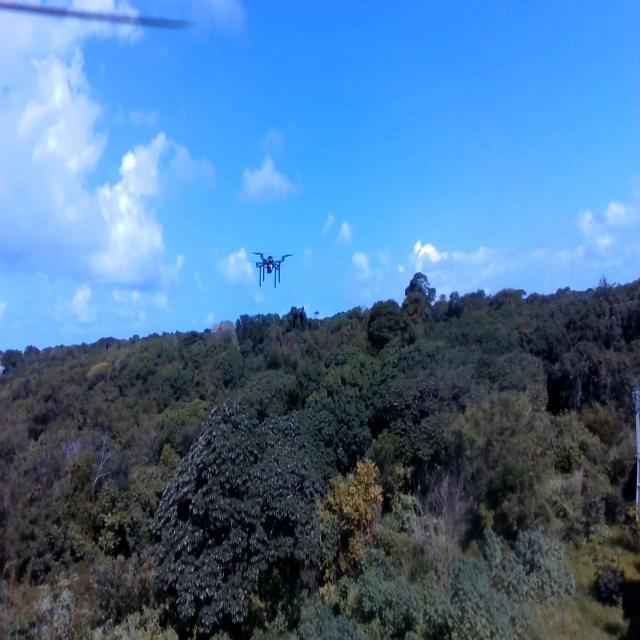-uav-: (248, 243, 294, 292)
